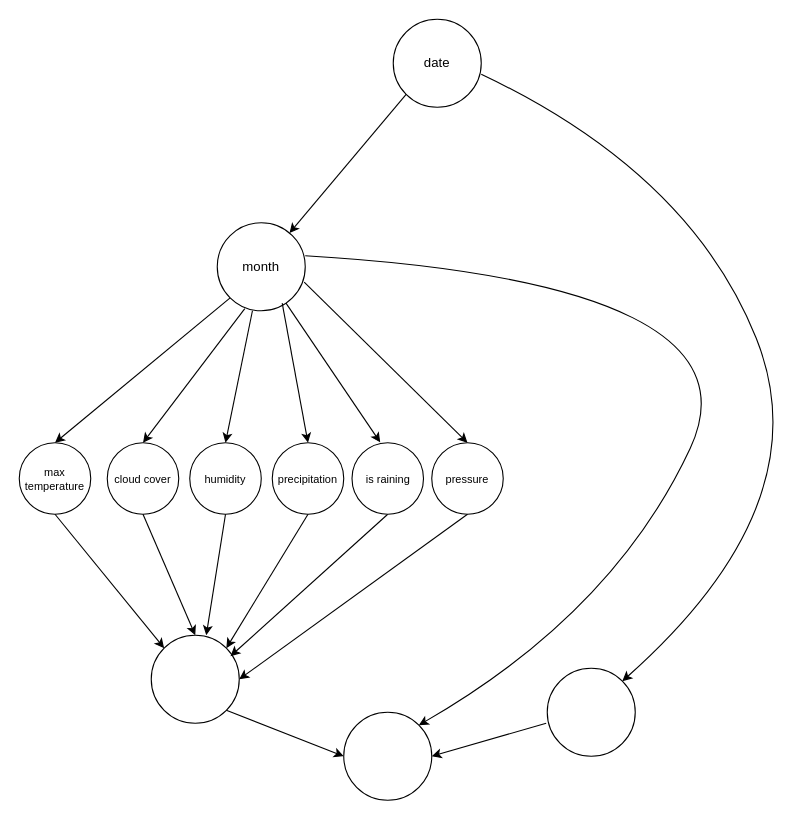
The diagram is 793 pixels wide and 820 high, and some of its shapes have lost their labels. The box of each missing label's shape, as (x1, y1, x2, y2) in pixels:
day of the week: (546, 667, 635, 756)
passengers count: (343, 711, 432, 800)
weather conditions: (150, 634, 239, 723)
